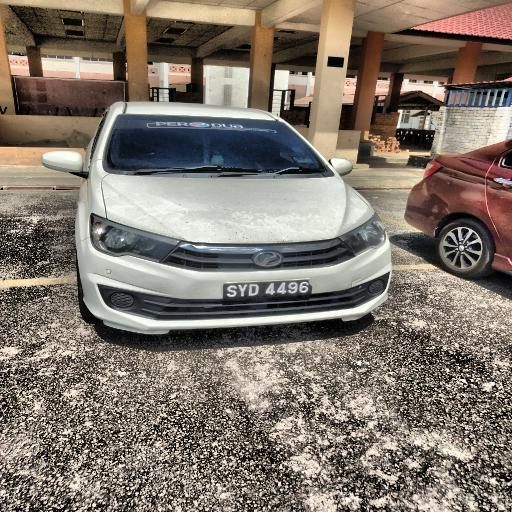license_plate: (222, 280, 310, 302)
